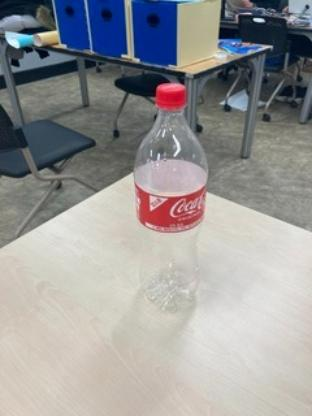Plastic Bottle: (131, 78, 209, 320)
